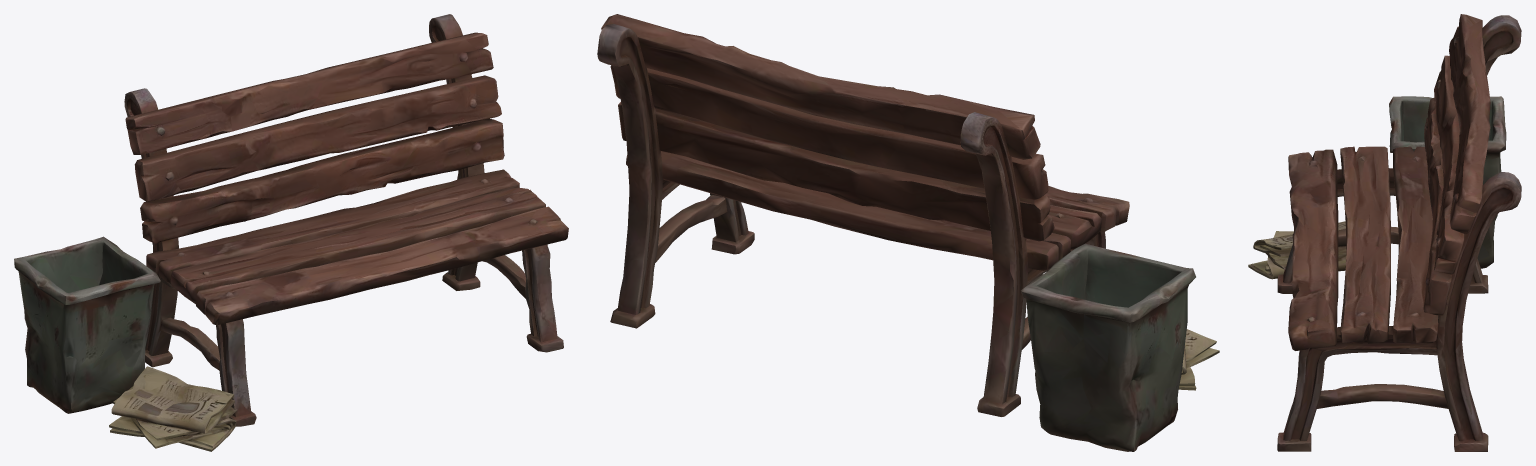
The model's file is isle_bench_bin_idle.glb.
3 renders of one model, left to right at view 1: azimuth 30°, elevation 25°; view 2: azimuth 150°, elevation 25°; view 3: azimuth 270°, elevation 25°, orthographic. The views are drawn at different scales.
Parts seen in each view (by area): view 1: tripo_node_10714820-0987-43e8-bc66-2ef1fbc83d7b; view 2: tripo_node_10714820-0987-43e8-bc66-2ef1fbc83d7b; view 3: tripo_node_10714820-0987-43e8-bc66-2ef1fbc83d7b.
Boxes of the visible parts, x1,y1,x2,y2 form: tripo_node_10714820-0987-43e8-bc66-2ef1fbc83d7b: (14,14,568,451); tripo_node_10714820-0987-43e8-bc66-2ef1fbc83d7b: (597,14,1219,451); tripo_node_10714820-0987-43e8-bc66-2ef1fbc83d7b: (1248,14,1521,451).
Size of the model in its own units: 2.2 by 1.19 by 1.07.
Materials: 1 (1 with a texture image).
